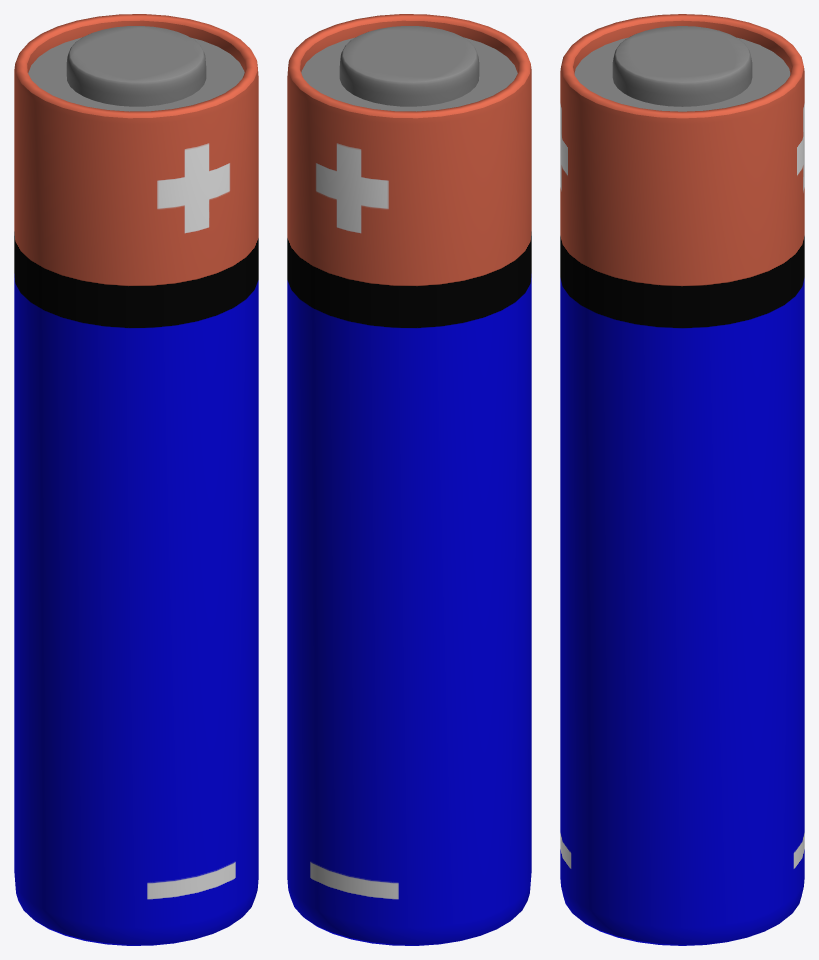
File: battery_model.fbx
The picture shows the model from 3 angles, left to right: view 1: azimuth 30°, elevation 25°; view 2: azimuth 150°, elevation 25°; view 3: azimuth 270°, elevation 25°; orthographic projection.
Parts seen in each view (by area): view 1: torch; view 2: torch; view 3: torch.
Boxes of the visible parts, <box> form: torch: <box>14,14,258,945</box>; torch: <box>287,14,531,945</box>; torch: <box>560,14,804,945</box>.
Bounding box in the file's own units: 128 × 492 × 128.
Materials: 1 (1 with a texture image).
